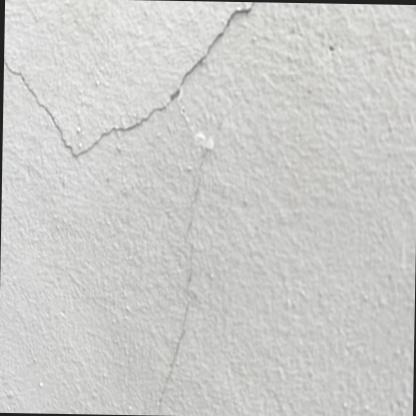crack: (2, 1, 257, 160)
